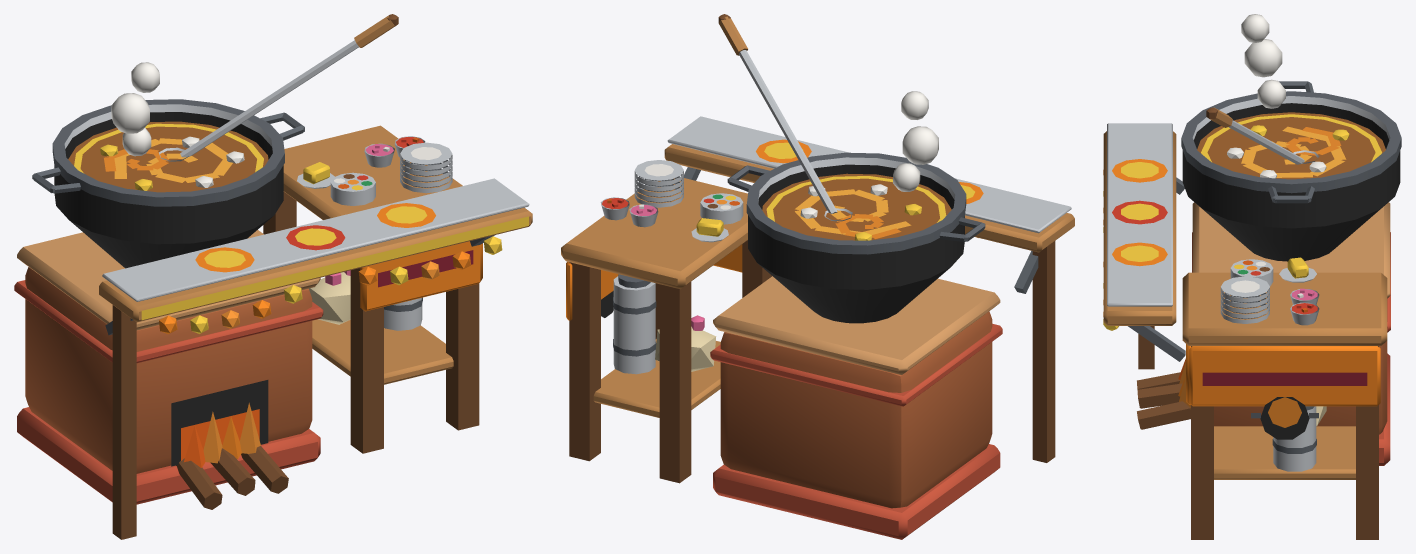
File: kadai_station.glb
3 views of the same model, side by side, from view 1: azimuth 30°, elevation 25°; view 2: azimuth 150°, elevation 25°; view 3: azimuth 270°, elevation 25° (orthographic). The views are drawn at different scales.
Visible parts, largest first — view 1: base, karchhi; view 2: base, karchhi; view 3: base, karchhi.
Boxes of the visible parts, box(x1,y1,x2,y2) form: base: box(14, 62, 532, 539); karchhi: box(159, 14, 398, 161); base: box(561, 91, 1074, 539); karchhi: box(718, 14, 852, 221); base: box(1103, 14, 1401, 539); karchhi: box(1206, 107, 1319, 164).
Size of the model in its own units: 1.32 by 1.33 by 0.905.
Materials: 1 (1 with a texture image).
